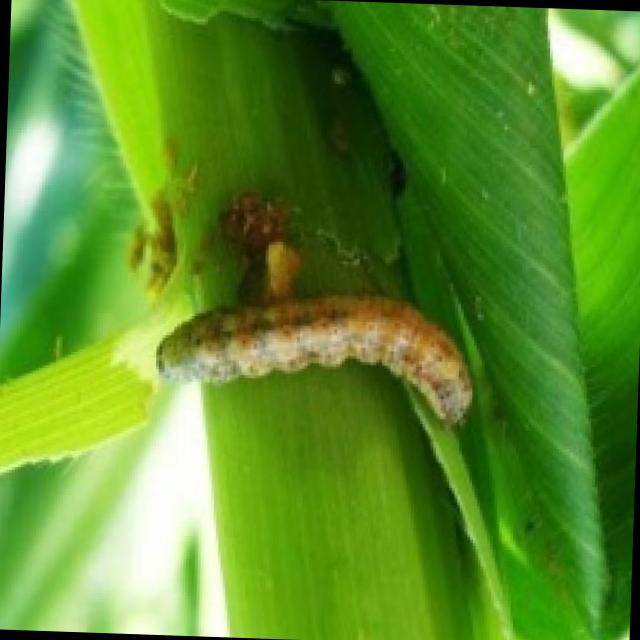armyworm: (140, 270, 491, 442)
